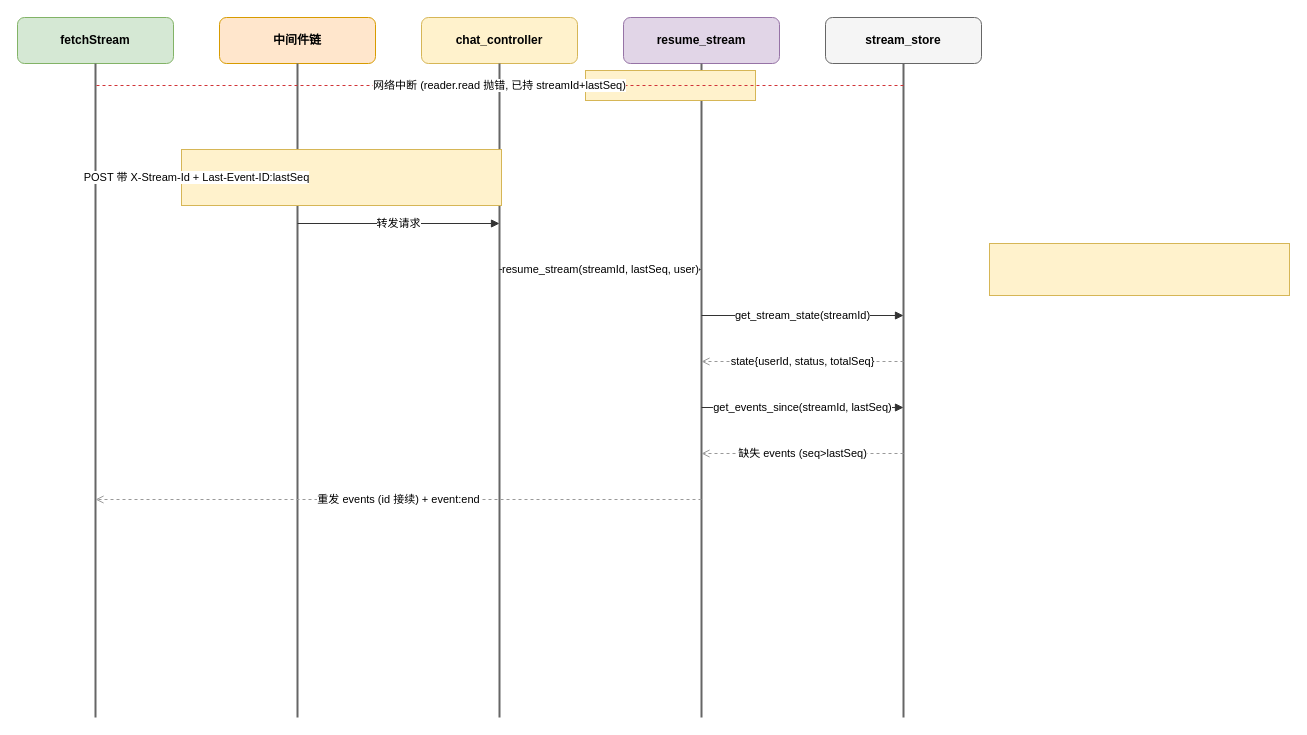
This 1307x735 diagram has some shape labels left out. Each missing label, with the centre of its shape:
"Agent 因 asyncio.shield 断连仍继续跑, 事件持续写入 stream_store" belongs at (1139,269).
"前提: 正常流式进行中" belongs at (670,85).
"校验: stream 不存在→404 / 非本人→403 / lastSeq越界→400" belongs at (341,177).
